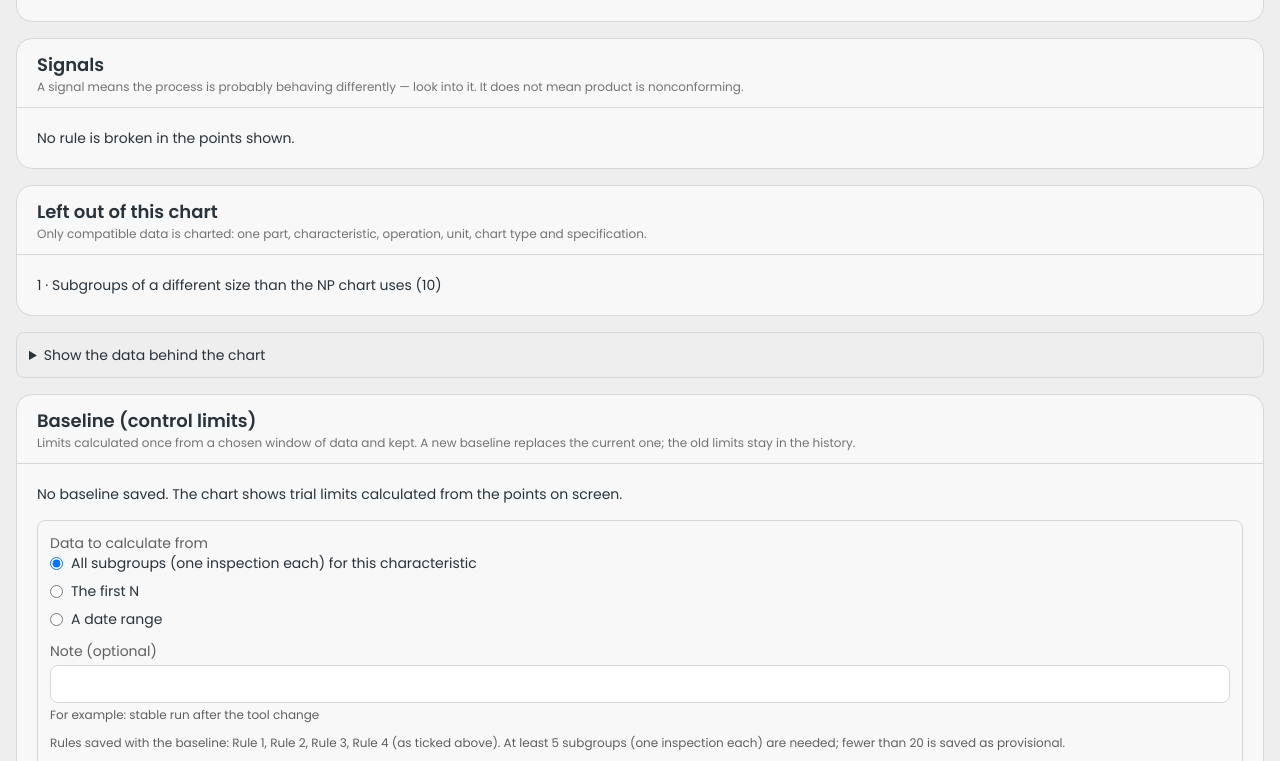
Test case: NP, C and U charts › a U chart plots defects per unit
(page scrolled)
Click the heading "Show the data behind the chart" at (155, 355), box [44,345,265,365]
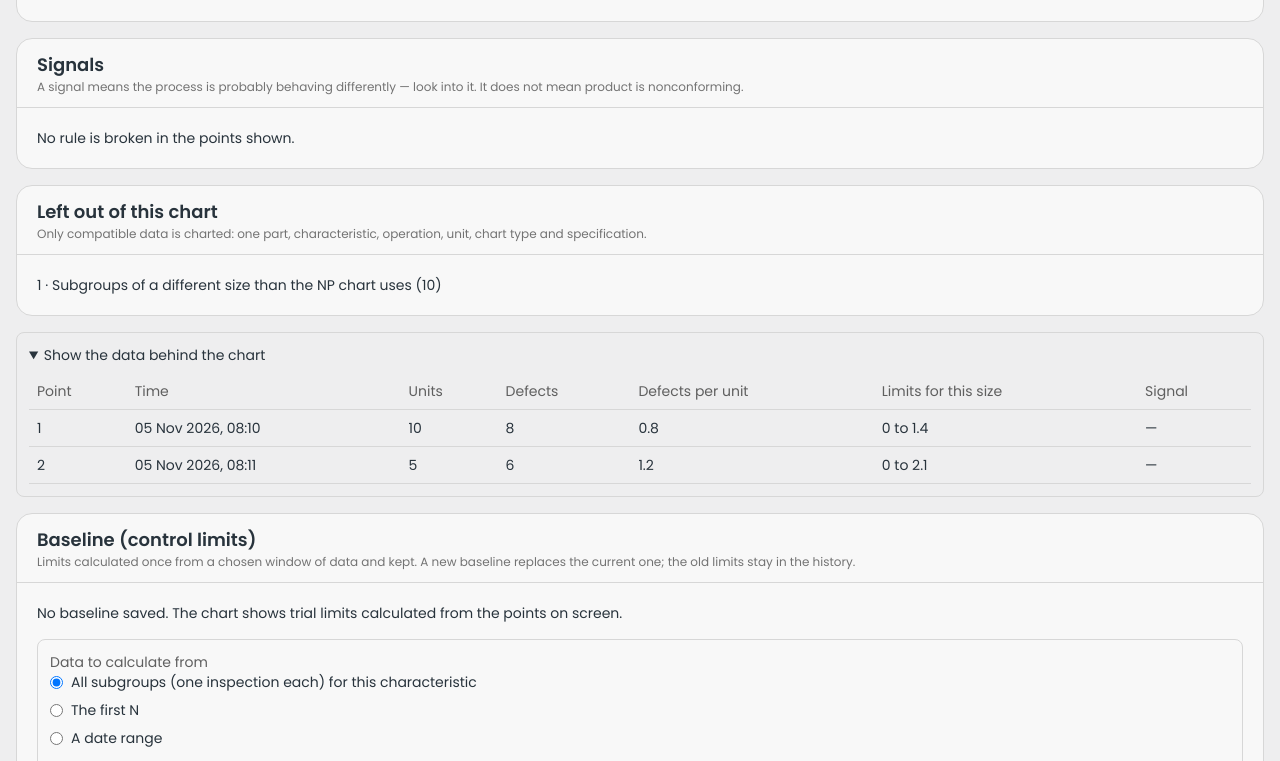
Expected: the column heading "Defects per unit" is shown, [630,373,874,410]
Expected: the text "1.2" is shown, [630,447,874,484]
